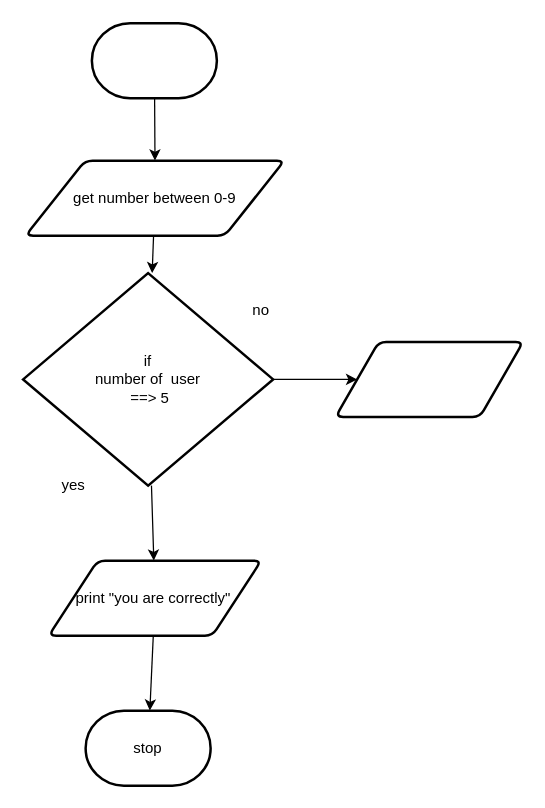
Some shapes in this 545 by 808 pixel diagram are drawn without their labels. Here are the shapes that lost their labels. From the top down, the centre of each, then its label:
point 154,60: start
point 429,379: print "you are wrong "
